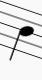B: (8, 1, 35, 65)
